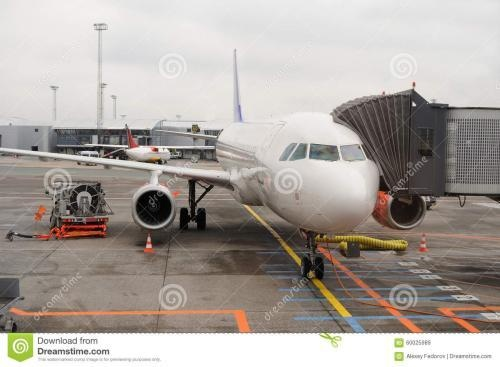airplane: (7, 67, 423, 255)
